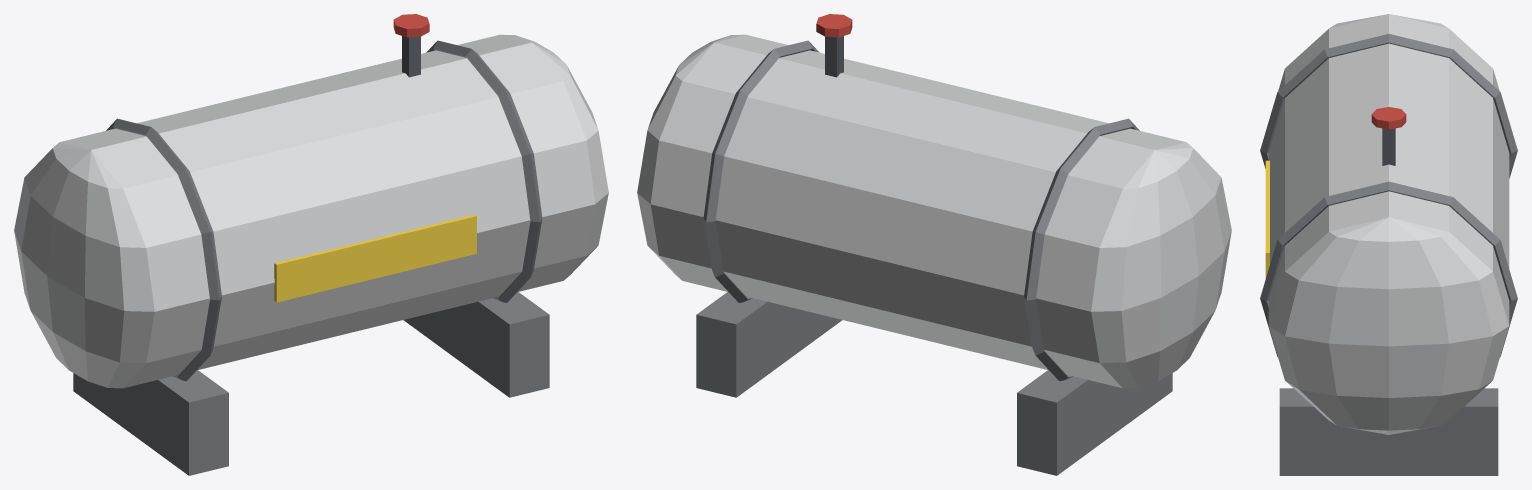
Rendered from SM_Fuel_Tank.glb.
3 renders of one model, left to right at view 1: azimuth 30°, elevation 25°; view 2: azimuth 150°, elevation 25°; view 3: azimuth 270°, elevation 25°, orthographic. The views are drawn at different scales.
Visible parts, largest first — view 1: SM_Fuel_Tank; view 2: SM_Fuel_Tank; view 3: SM_Fuel_Tank.
Part boxes in pixels (x1=…): SM_Fuel_Tank: x1=14, y1=14, x2=608, y2=475; SM_Fuel_Tank: x1=637, y1=14, x2=1231, y2=475; SM_Fuel_Tank: x1=1260, y1=14, x2=1517, y2=475.
Bounding box in the file's own units: 2.64 × 1.64 × 1.18.
